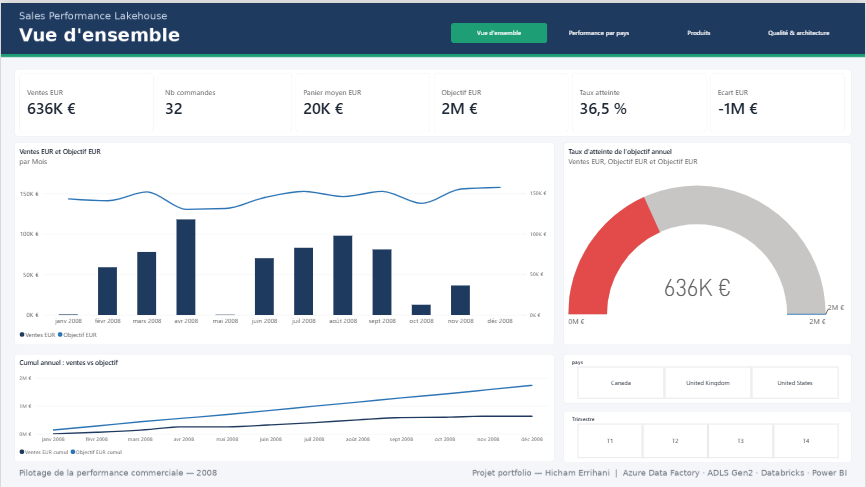

This screenshot's page, from the dashboard's own definition file:
{"tool":"powerbi","page":{"name":"Vue d'ensemble","canvas":[1920,1080],"ordinal":0},"visuals":[{"type":"cardVisual","fields":{"Data":["_Mesures.Ventes EUR","_Mesures.Nb commandes","_Mesures.Panier moyen EUR","_Mesures.Objectif EUR","_Mesures.Taux atteinte","_Mesures.Ecart EUR"]},"box":[30,145,1860,150],"z":0},{"type":"lineClusteredColumnComboChart","fields":{"Category":["Calendrier.Mois"],"Y":["_Mesures.Ventes EUR"],"Y2":["_Mesures.Objectif EUR"]},"box":[30,310,1200,450],"z":1000},{"type":"gauge","title":"Taux d''atteinte de l''objectif annuel","fields":{"MaxValue":["_Mesures.Objectif EUR"],"TargetValue":["_Mesures.Objectif EUR"],"Y":["_Mesures.Ventes EUR"]},"box":[1250,310,640,450],"z":2000},{"type":"lineChart","title":"Cumul annuel : ventes vs objectif","fields":{"Category":["Calendrier.Mois"],"Y":["_Mesures.Ventes EUR cumul","_Mesures.Objectif EUR cumul"]},"box":[30,780,1200,240],"z":3000},{"type":"slicer","fields":{"Values":["ventes_vs_objectifs.pays"]},"box":[1250,780,640,110],"z":4000},{"type":"slicer","fields":{"Values":["Calendrier.Trimestre"]},"box":[1250,905,640,115],"z":5000},{"type":"pageNavigator","box":[990,35,900,60],"z":6000}]}

Visuals, with their boxes in screenshot pixels (x1, y1, x2, y2), scaled from the page's 1920x1080 canvas onto the 866x487 screenshot:
cardVisual - _Mesures.Ventes EUR x _Mesures.Nb commandes: (left=14, top=65, right=852, bottom=133)
lineClusteredColumnComboChart - Calendrier.Mois x _Mesures.Ventes EUR: (left=14, top=140, right=555, bottom=343)
"Taux d''atteinte de l''objectif annuel" gauge: (left=564, top=140, right=852, bottom=343)
"Cumul annuel : ventes vs objectif" lineChart: (left=14, top=352, right=555, bottom=460)
slicer - ventes_vs_objectifs.pays: (left=564, top=352, right=852, bottom=401)
slicer - Calendrier.Trimestre: (left=564, top=408, right=852, bottom=460)
pageNavigator: (left=447, top=16, right=852, bottom=43)
